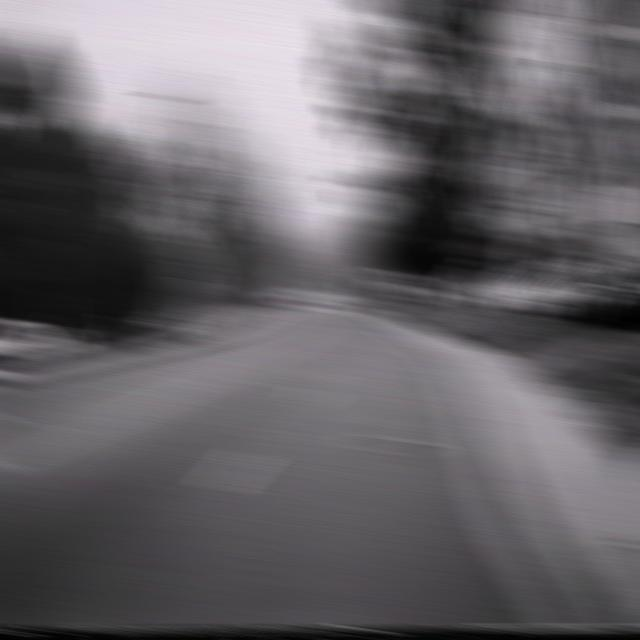speedLimit35: (506, 154, 549, 210)
